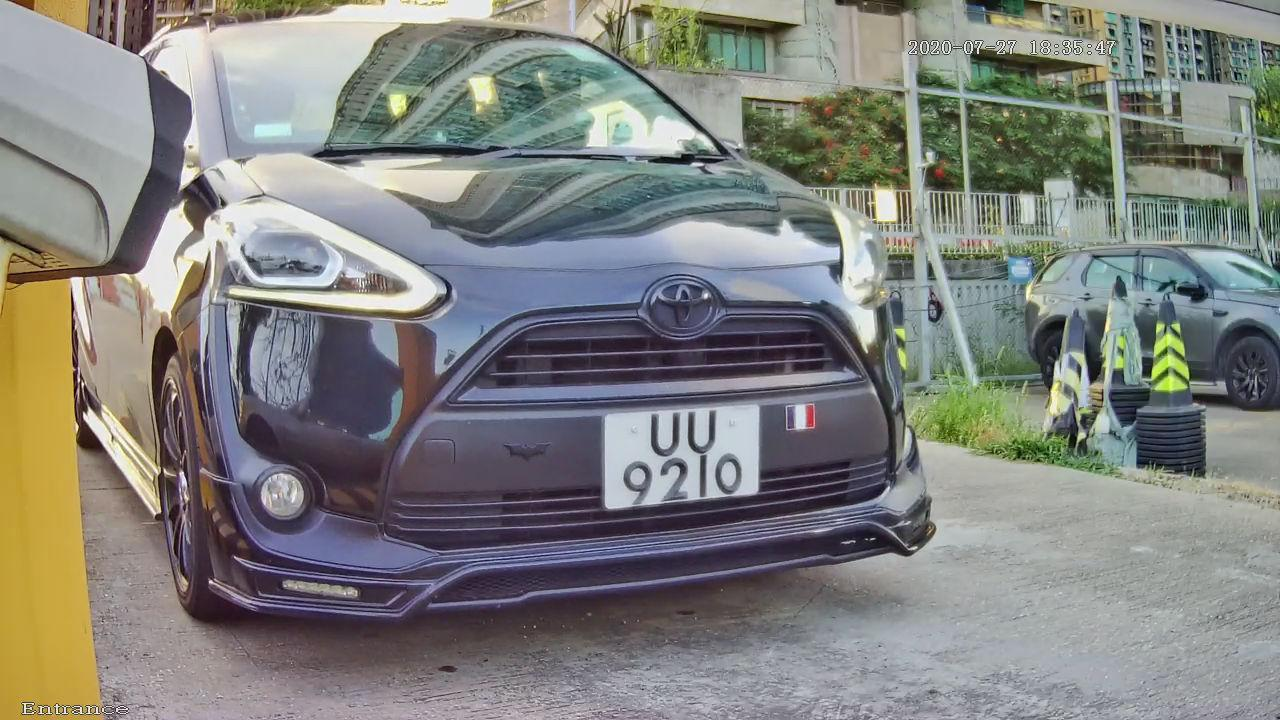privatecar: (86, 20, 1058, 653)
